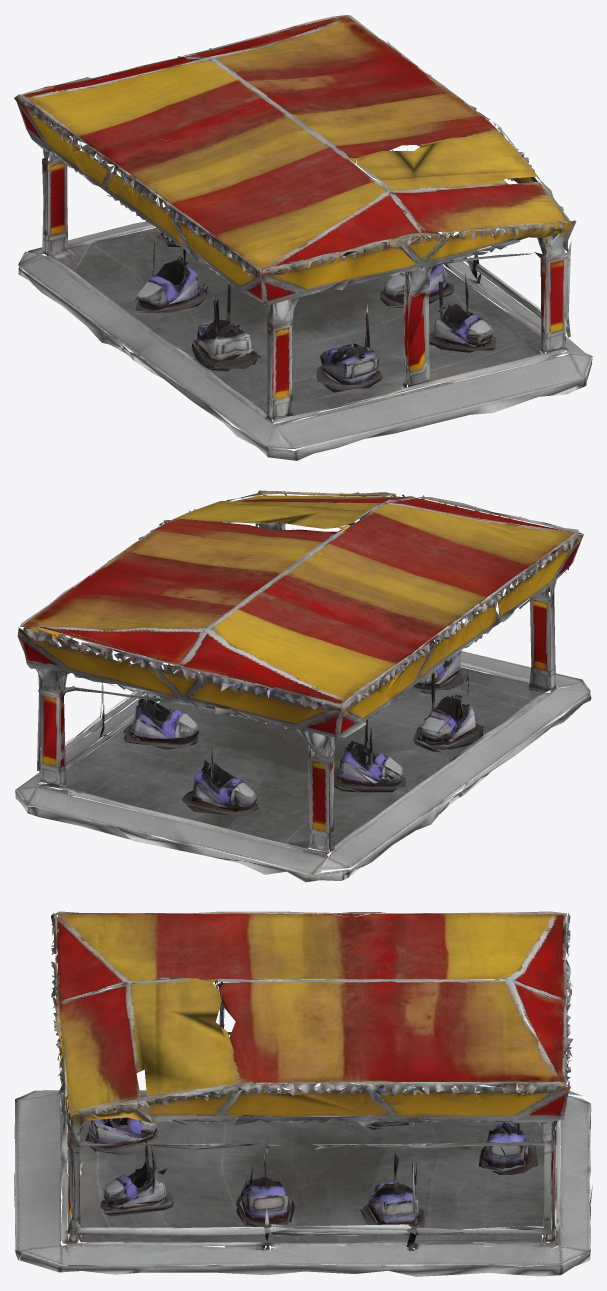
File: jahrmarkt_autoscooter.glb
3 renders of one model, top to bottom at view 1: azimuth 30°, elevation 25°; view 2: azimuth 150°, elevation 25°; view 3: azimuth 270°, elevation 25°, orthographic. The views are drawn at different scales.
Visible parts, largest first — view 1: Prop; view 2: Prop; view 3: Prop.
Boxes of the visible parts, box(x1,y1,x2,y2) form: Prop: box(14, 15, 592, 460); Prop: box(15, 490, 591, 882); Prop: box(14, 911, 592, 1276).
Size of the model in its own units: 1.77 by 1 by 2.45.
1 material, 1 textured.
